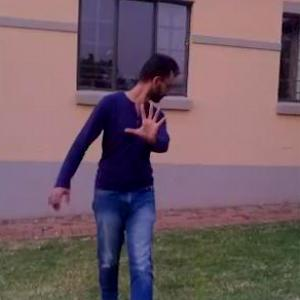follow_hand: (124, 97, 173, 145)
